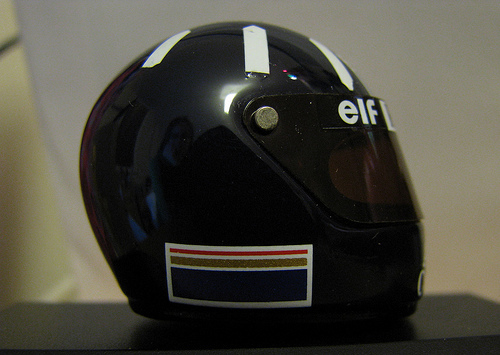helmet: (93, 43, 414, 304)
